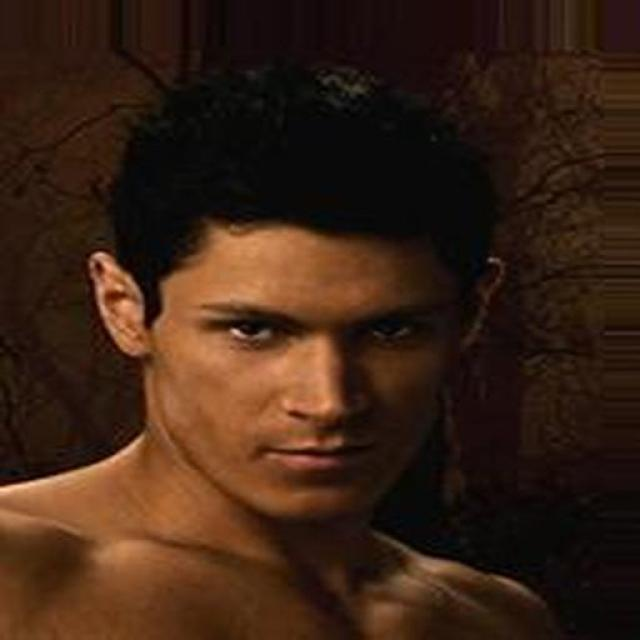bareface: (96, 61, 493, 528)
